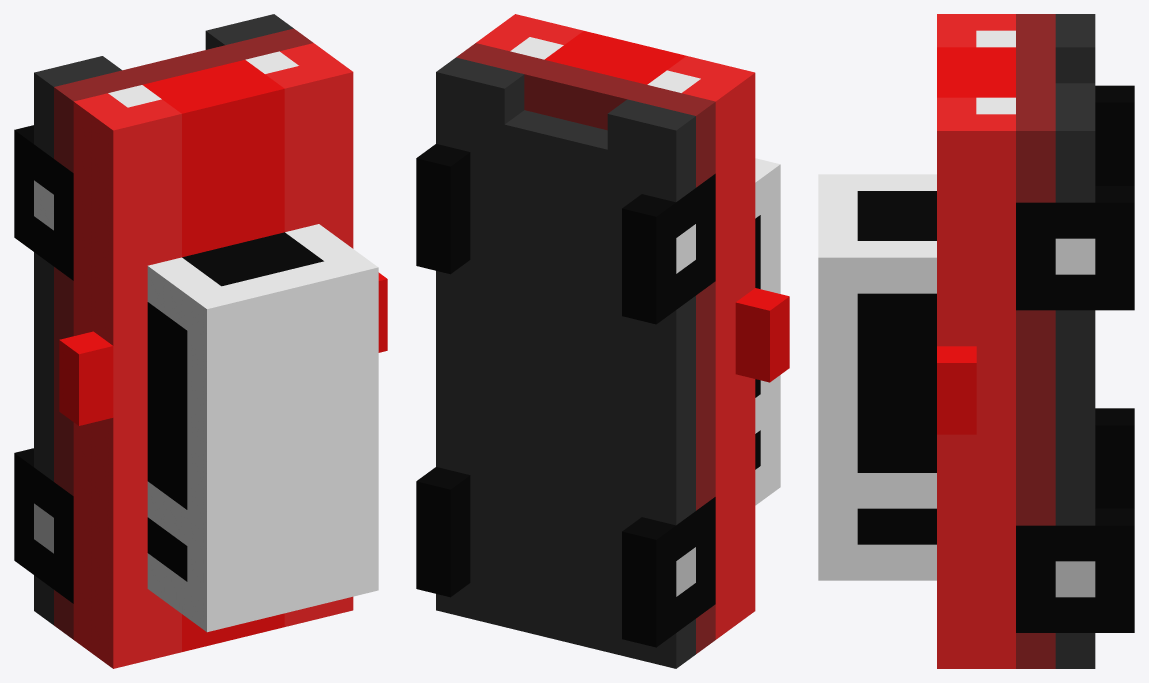
The model's file is VoxelCarC.obj.
3 renders of one model, left to right at view 1: azimuth 30°, elevation 25°; view 2: azimuth 150°, elevation 25°; view 3: azimuth 270°, elevation 25°, orthographic.
Visible parts, largest first — view 1: VoxelCar_C; view 2: VoxelCar_C; view 3: VoxelCar_C.
Boxes of the visible parts, x1,y1,x2,y2 form: VoxelCar_C: (14,14,387,668); VoxelCar_C: (416,14,789,668); VoxelCar_C: (818,14,1134,668).
Size of the model in its own units: 1.18 by 1.96 by 1.05.
